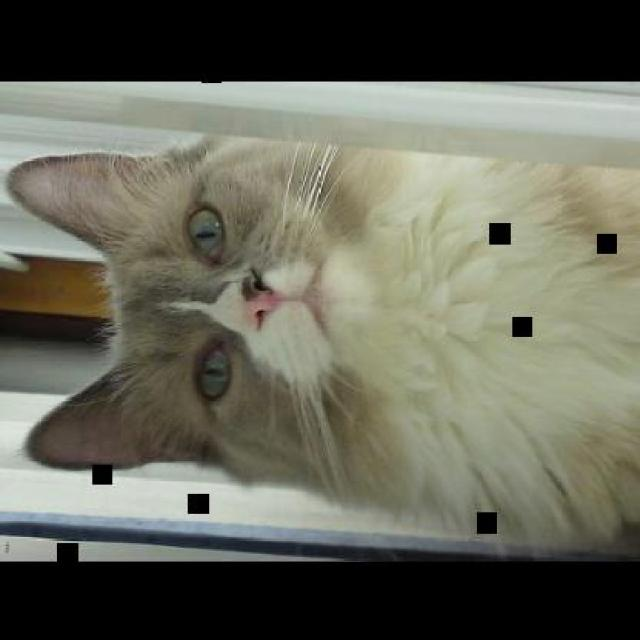unauthorized: (4, 131, 638, 552)
